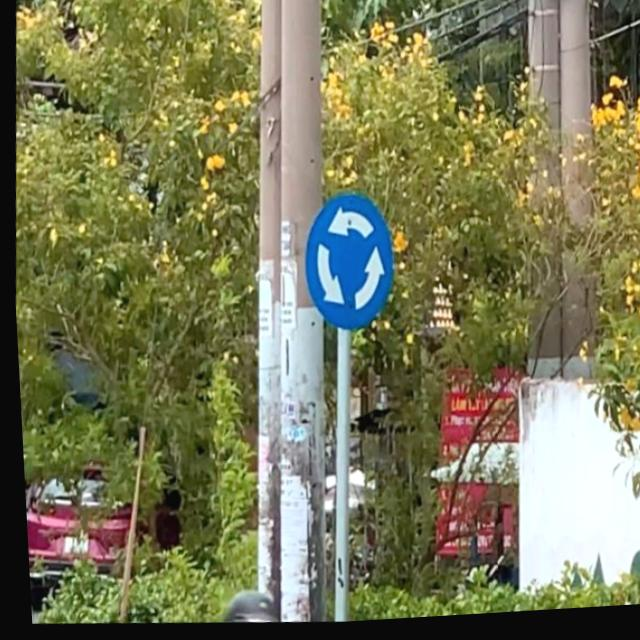Noi giao nhau chay theo vong xuyen: (295, 192, 395, 342)
